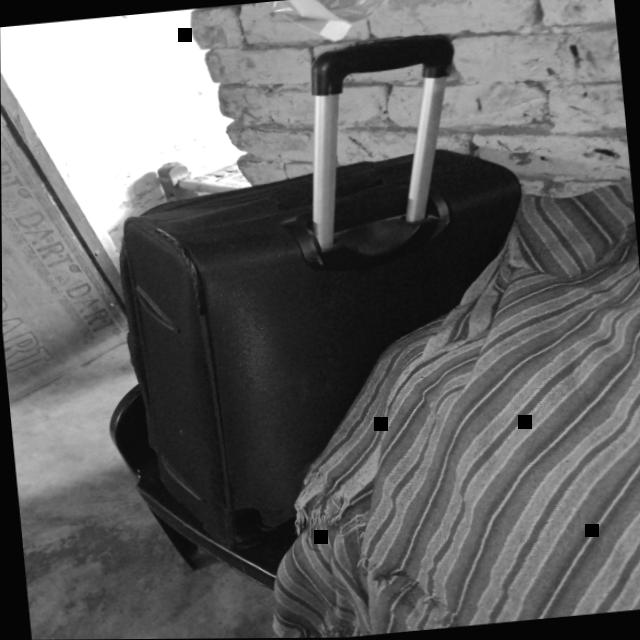luggage: (119, 151, 521, 549)
